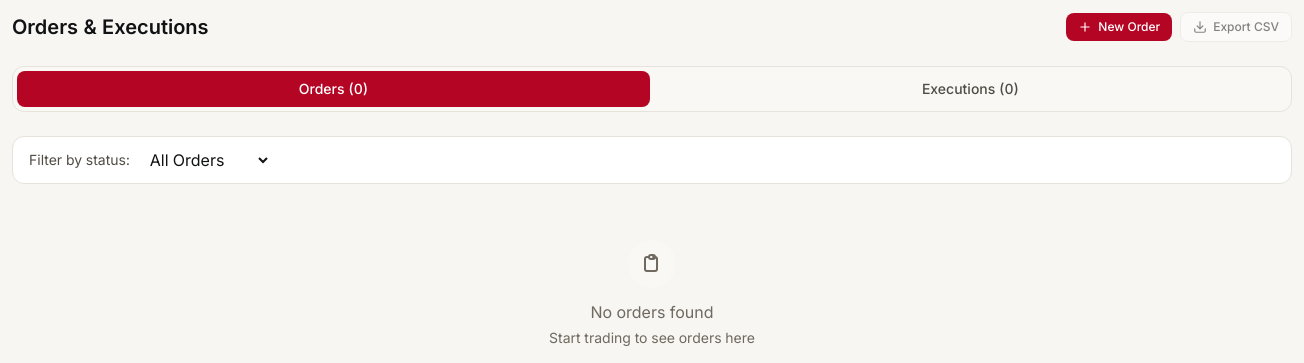
Orders › shows filtered empty state for orders
Select "Filled" in the dropdown at coordinates (208, 160), box top-left (146, 149), bottom-right (271, 171)
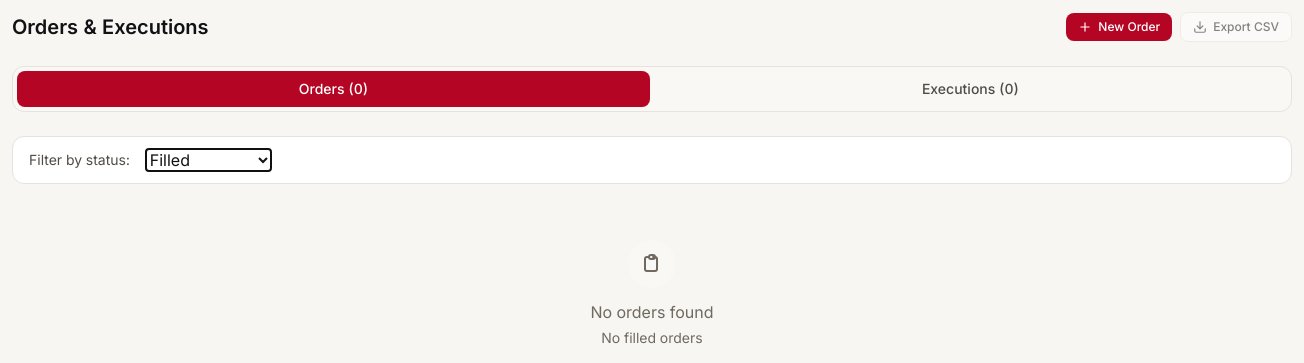
Now the text "No filled orders" is shown, box top-left (601, 329), bottom-right (703, 346)
